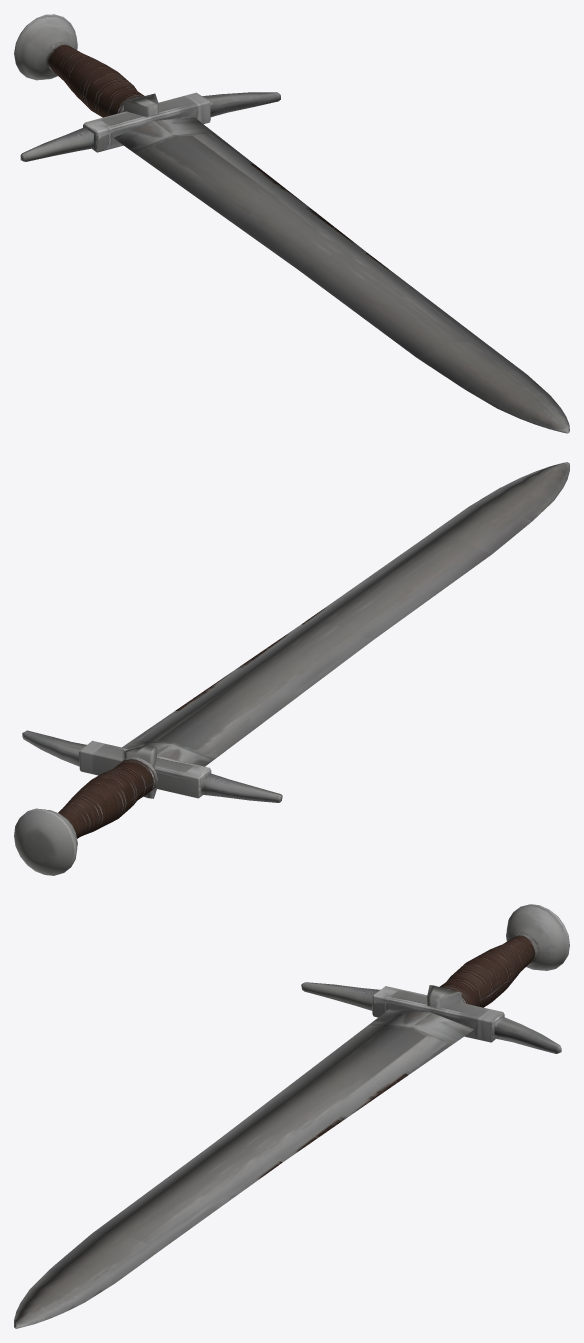
Rendered from swordnight.fbx.
The picture shows the model from 3 angles, top to bottom: view 1: azimuth 30°, elevation 25°; view 2: azimuth 150°, elevation 25°; view 3: azimuth 330°, elevation 25°; orthographic projection.
Visible parts, largest first — view 1: swordnightmesh; view 2: swordnightmesh; view 3: swordnightmesh.
Part boxes in pixels (x1,y1,x2,y2): swordnightmesh: (14,14,569,433); swordnightmesh: (14,462,569,875); swordnightmesh: (14,904,569,1328).
Bounding box in the file's own units: 13.84 × 49.19 × 3.3.
